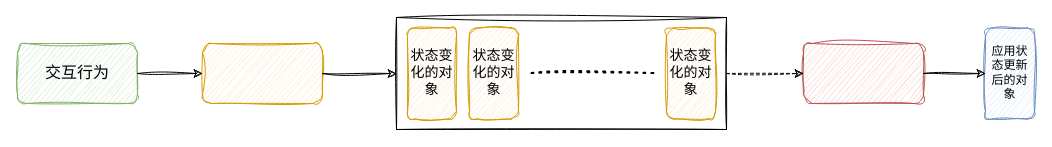
This 1052x147 diagram has some shape labels left out. Here are the shapes that lost their labels. From the top down, the centre of each, then its label:
At [262,73]: "处理状态逻辑".
At [863,73]: "_onframe()".
